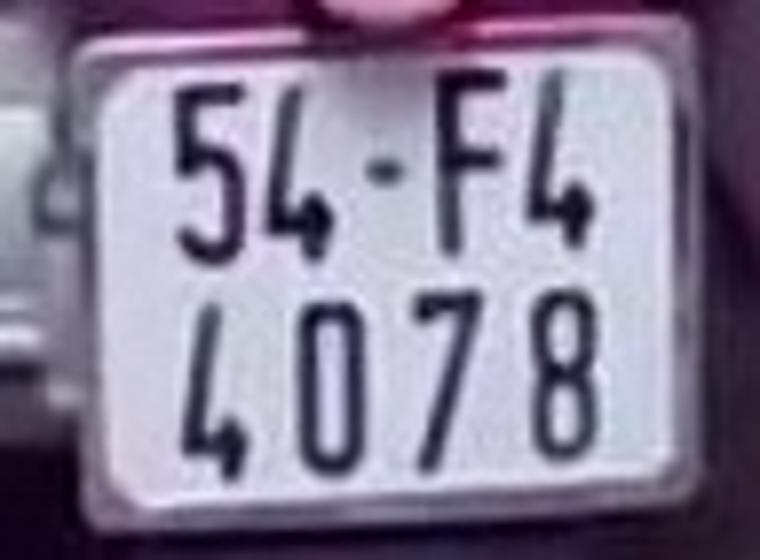-: (357, 157, 406, 190)
0: (291, 294, 373, 490)
4: (521, 58, 601, 259), (179, 302, 260, 496), (260, 80, 340, 274)
5: (173, 76, 252, 268)
7: (401, 280, 490, 477)
8: (528, 289, 606, 472)
F: (426, 59, 513, 261)
